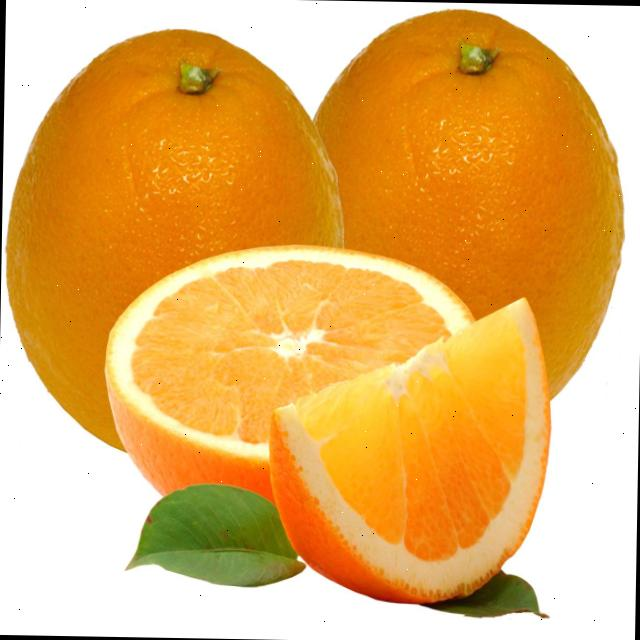Jeruk: (1, 24, 348, 456), (306, 6, 628, 402), (101, 240, 477, 508), (264, 292, 554, 606)
